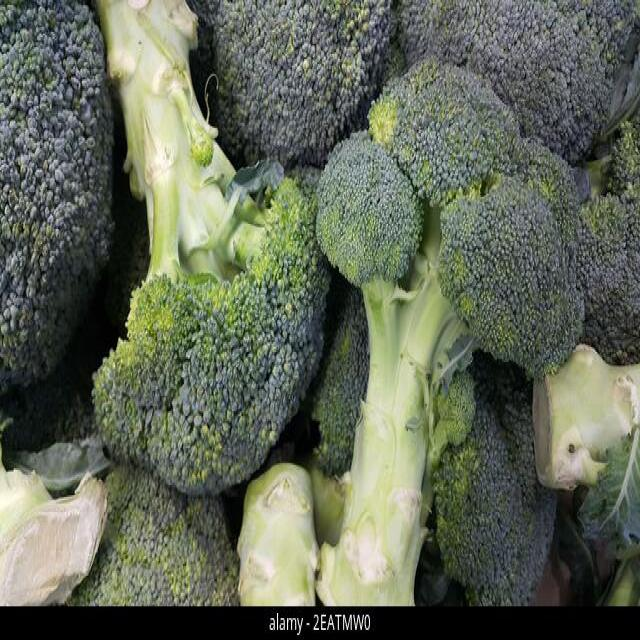broccoli: (317, 61, 584, 604), (90, 0, 329, 501)
